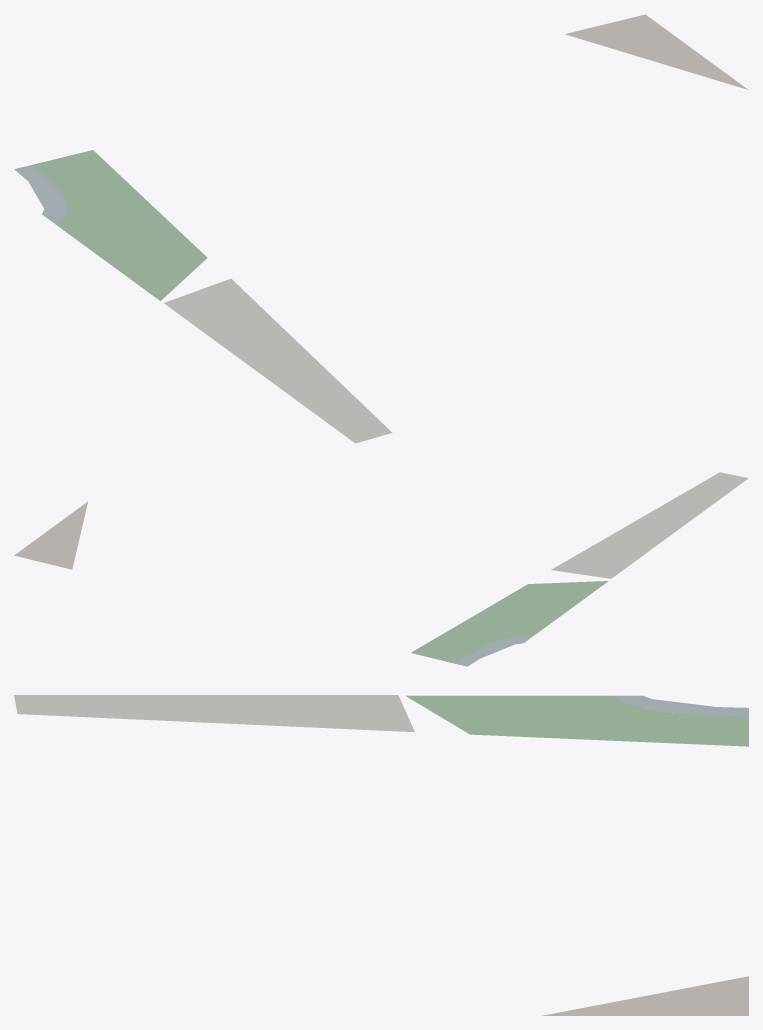
File: 98_98_mid.glb
3 views of the same model, one above another, from view 1: azimuth 30°, elevation 25°; view 2: azimuth 150°, elevation 25°; view 3: azimuth 270°, elevation 25° (orthographic). The views are drawn at different scales.
Bounding box in the file's own units: 500 × 0.5721 × 484.
